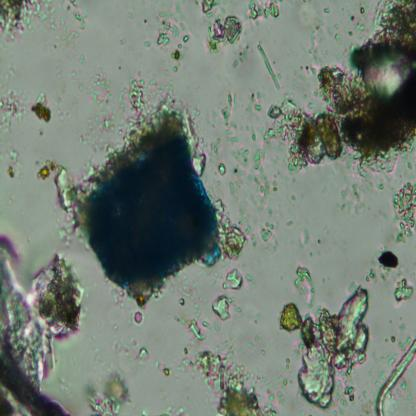Background material: (265, 1, 416, 181), (0, 232, 84, 415), (274, 285, 374, 412), (186, 349, 276, 415), (98, 72, 167, 138), (225, 142, 275, 204), (37, 160, 85, 224), (214, 202, 249, 262), (153, 12, 188, 69), (42, 3, 81, 53), (82, 374, 129, 414), (0, 1, 44, 43), (213, 267, 244, 321), (391, 182, 416, 246), (206, 14, 243, 57), (67, 58, 100, 105), (331, 182, 371, 219), (291, 265, 317, 307), (238, 92, 262, 137), (0, 90, 25, 132), (257, 44, 280, 88), (181, 312, 211, 344), (269, 353, 293, 392), (373, 246, 399, 282), (292, 233, 320, 262), (246, 1, 281, 23), (336, 391, 367, 414), (103, 284, 130, 309), (221, 93, 239, 130), (392, 275, 414, 305), (232, 45, 258, 70), (67, 0, 85, 31), (255, 220, 279, 242), (152, 356, 174, 380), (33, 93, 52, 120), (300, 0, 318, 28), (8, 150, 24, 180), (110, 337, 131, 359), (198, 0, 221, 17), (158, 402, 186, 415), (130, 308, 144, 327), (134, 347, 150, 363), (285, 190, 298, 204), (112, 32, 127, 44), (4, 67, 16, 79), (123, 10, 134, 22), (399, 322, 408, 334), (144, 37, 151, 50), (390, 333, 398, 343)
Cellulose filter fibre: (376, 341, 416, 415)
Fragment: (85, 136, 219, 287)
